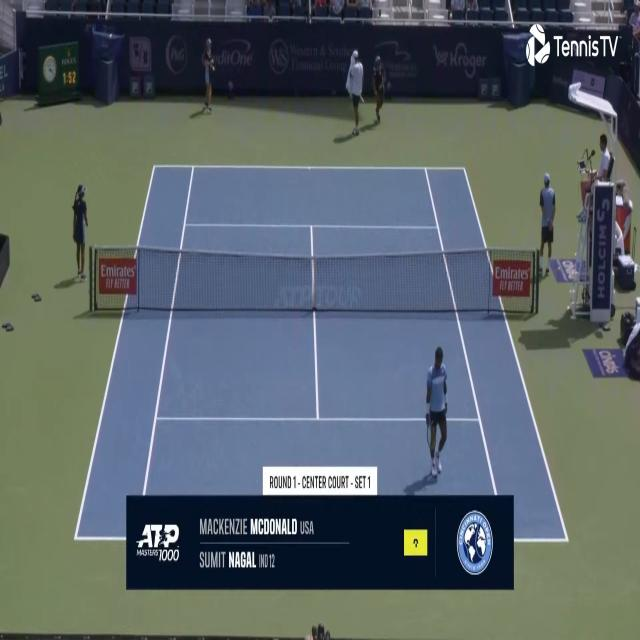tennis-player: (421, 343, 451, 483), (345, 44, 366, 138)
